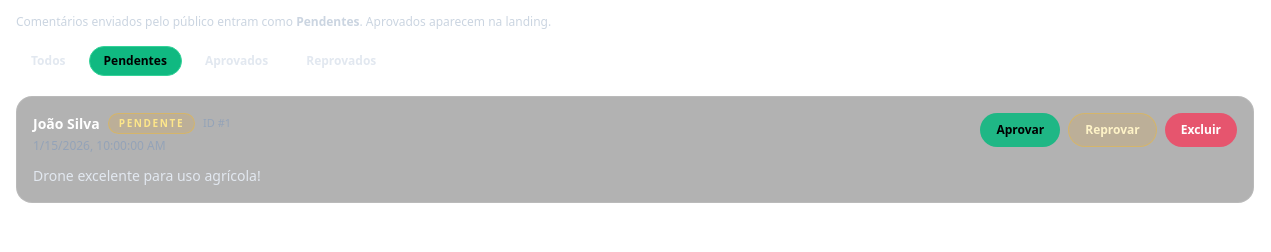
Scenario: CommentsModerationTable › exclusão de comentário › exibe mensagem de erro quando DEL falha
Check: the text "Drone excelente para uso agrícola!" is shown, box [33, 166, 261, 185]
Click the button "Excluir" at (1201,130), box [1165, 113, 1237, 147]
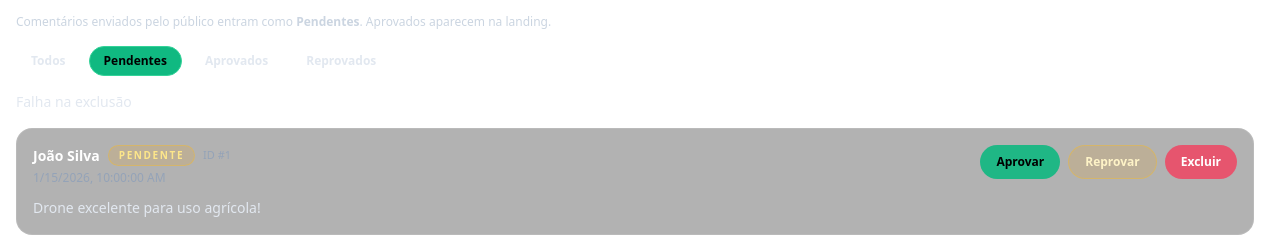
Check: the text "Falha na exclusão" is shown, box [16, 92, 132, 111]
